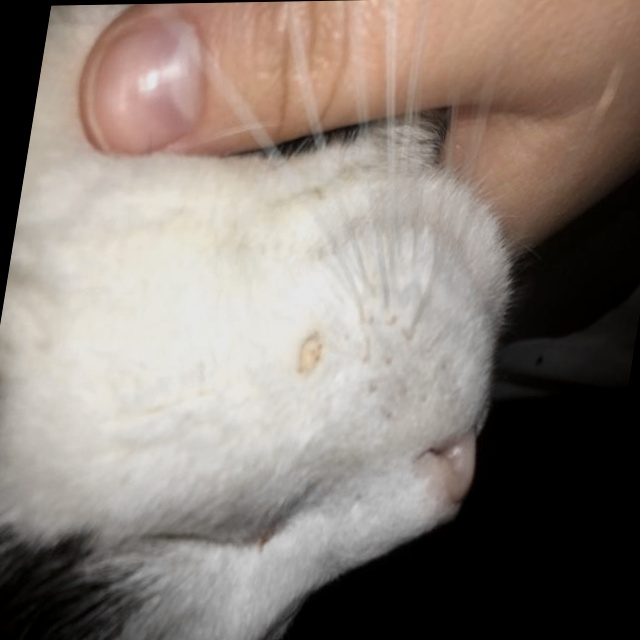lump_and_bump: (294, 335, 323, 375)
